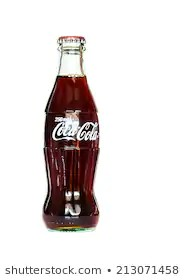coke-glass-bottle: (40, 30, 105, 234)
